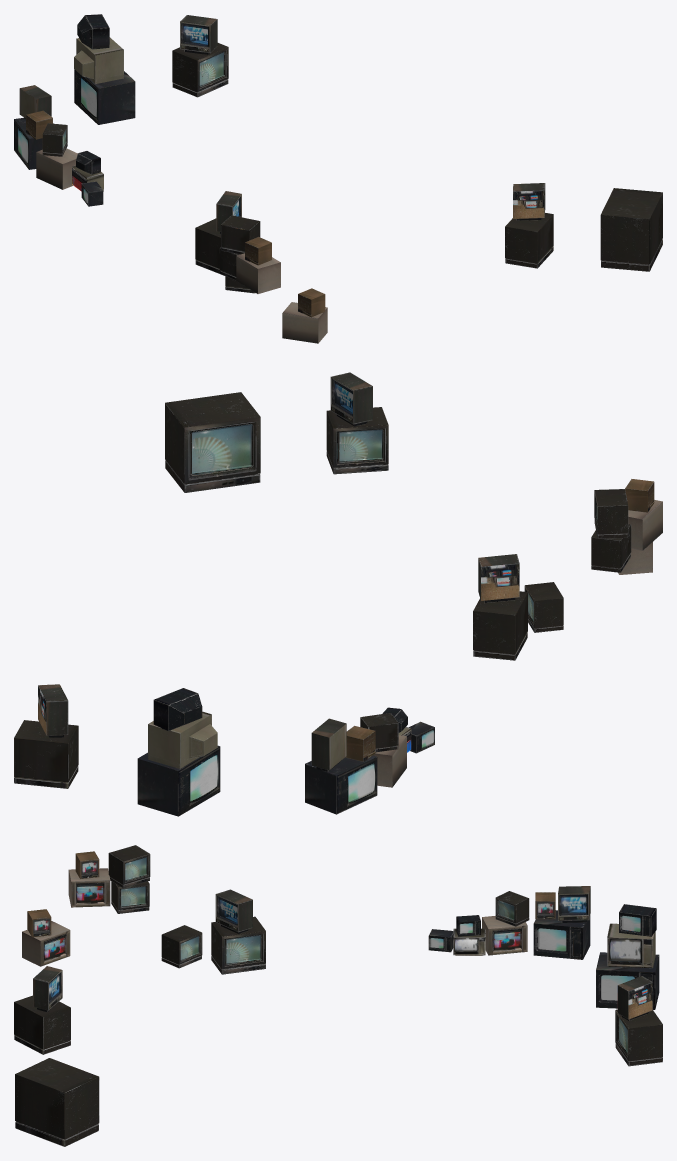
File: dianshi.fbx
3 renders of one model, top to bottom at view 1: azimuth 30°, elevation 25°; view 2: azimuth 150°, elevation 25°; view 3: azimuth 270°, elevation 25°, orthographic. The views are drawn at different scales.
Parts seen in each view (by area): view 1: TVsss_MADE_BY_DAFTVID_.004, TVsss_MADE_BY_DAFTVID_.010, TVsss_MADE_BY_DAFTVID_.003, TVsss_MADE_BY_DAFTVID_.007, TVsss_MADE_BY_DAFTVID_.011, TVsss_MADE_BY_DAFTVID_.021, TVsss_MADE_BY_DAFTVID_.027, TVsss_MADE_BY_DAFTVID_.001, TVsss_MADE_BY_DAFTVID_.009, TVsss_MADE_BY_DAFTVID_.025, TVsss_MADE_BY_DAFTVID_.020, TVsss_MADE_BY_DAFTVID_.002 (+9 smaller); view 2: TVsss_MADE_BY_DAFTVID_.004, TVsss_MADE_BY_DAFTVID_.010, TVsss_MADE_BY_DAFTVID_.003, TVsss_MADE_BY_DAFTVID_.007, TVsss_MADE_BY_DAFTVID_.014, TVsss_MADE_BY_DAFTVID_.002, TVsss_MADE_BY_DAFTVID_.011, TVsss_MADE_BY_DAFTVID_.025, TVsss_MADE_BY_DAFTVID_.026, TVsss_MADE_BY_DAFTVID_.006, TVsss_MADE_BY_DAFTVID_.020, TVsss_MADE_BY_DAFTVID_.012 (+9 smaller); view 3: TVsss_MADE_BY_DAFTVID_.004, TVsss_MADE_BY_DAFTVID_.007, TVsss_MADE_BY_DAFTVID_.002, TVsss_MADE_BY_DAFTVID_.003, TVsss_MADE_BY_DAFTVID_.014, TVsss_MADE_BY_DAFTVID_.010, TVsss_MADE_BY_DAFTVID_.011, TVsss_MADE_BY_DAFTVID_.021, TVsss_MADE_BY_DAFTVID_.020, TVsss_MADE_BY_DAFTVID_.006, TVsss_MADE_BY_DAFTVID_.009, TVsss_MADE_BY_DAFTVID_.001 (+13 smaller).
Part boxes in pixels (x1,y1,x2,y2): TVsss_MADE_BY_DAFTVID_.004: [600, 188, 662, 271]; TVsss_MADE_BY_DAFTVID_.010: [74, 69, 135, 124]; TVsss_MADE_BY_DAFTVID_.003: [172, 43, 228, 97]; TVsss_MADE_BY_DAFTVID_.007: [505, 213, 553, 268]; TVsss_MADE_BY_DAFTVID_.011: [74, 37, 123, 83]; TVsss_MADE_BY_DAFTVID_.021: [282, 302, 327, 343]; TVsss_MADE_BY_DAFTVID_.027: [180, 15, 217, 54]; TVsss_MADE_BY_DAFTVID_.001: [236, 253, 280, 293]; TVsss_MADE_BY_DAFTVID_.009: [36, 148, 77, 189]; TVsss_MADE_BY_DAFTVID_.025: [513, 183, 545, 220]; TVsss_MADE_BY_DAFTVID_.020: [221, 215, 260, 254]; TVsss_MADE_BY_DAFTVID_.002: [195, 218, 221, 274]; TVsss_MADE_BY_DAFTVID_.004: [165, 392, 260, 492]; TVsss_MADE_BY_DAFTVID_.010: [137, 745, 220, 816]; TVsss_MADE_BY_DAFTVID_.003: [14, 720, 78, 788]; TVsss_MADE_BY_DAFTVID_.007: [326, 407, 388, 474]; TVsss_MADE_BY_DAFTVID_.014: [305, 755, 377, 814]; TVsss_MADE_BY_DAFTVID_.002: [473, 591, 527, 660]; TVsss_MADE_BY_DAFTVID_.011: [148, 711, 217, 768]; TVsss_MADE_BY_DAFTVID_.025: [330, 372, 372, 426]; TVsss_MADE_BY_DAFTVID_.026: [478, 554, 519, 603]; TVsss_MADE_BY_DAFTVID_.006: [524, 582, 563, 632]; TVsss_MADE_BY_DAFTVID_.020: [594, 489, 628, 538]; TVsss_MADE_BY_DAFTVID_.012: [153, 688, 202, 731]; TVsss_MADE_BY_DAFTVID_.004: [15, 1058, 99, 1146]; TVsss_MADE_BY_DAFTVID_.007: [14, 995, 70, 1054]; TVsss_MADE_BY_DAFTVID_.002: [211, 916, 265, 974]; TVsss_MADE_BY_DAFTVID_.003: [615, 1009, 662, 1066]; TVsss_MADE_BY_DAFTVID_.014: [533, 910, 590, 959]; TVsss_MADE_BY_DAFTVID_.010: [596, 952, 659, 1009]; TVsss_MADE_BY_DAFTVID_.011: [607, 923, 655, 968]; TVsss_MADE_BY_DAFTVID_.021: [22, 921, 70, 966]; TVsss_MADE_BY_DAFTVID_.020: [108, 845, 150, 888]; TVsss_MADE_BY_DAFTVID_.006: [161, 925, 202, 968]; TVsss_MADE_BY_DAFTVID_.009: [482, 916, 527, 955]; TVsss_MADE_BY_DAFTVID_.001: [68, 868, 110, 907].
Size of the model in its own units: 1269 by 294 by 1700.
